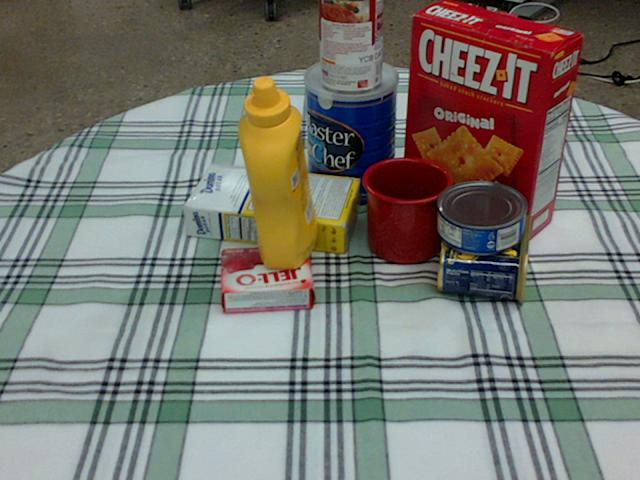cracker_box: (401, 0, 585, 240)
gelatin_box: (221, 246, 314, 313)
master_chef_can: (304, 56, 397, 208)
mug: (363, 156, 454, 263)
mustard_bottle: (237, 76, 316, 269)
potted_meat_can: (437, 204, 532, 299)
sugar_box: (181, 162, 360, 253)
tomato_soup_can: (319, 0, 384, 92)
tuna_fish_can: (436, 182, 526, 253)
